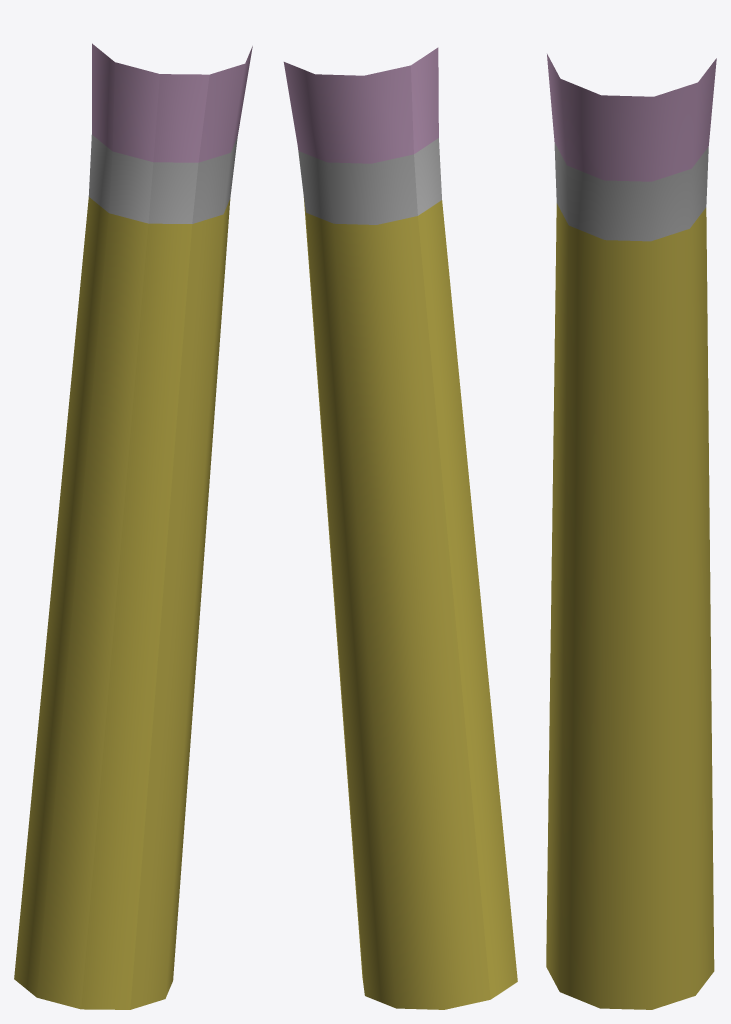
Rendered from PencilB.glb.
The picture shows the model from 3 angles, left to right: view 1: azimuth 30°, elevation 25°; view 2: azimuth 150°, elevation 25°; view 3: azimuth 270°, elevation 25°; orthographic projection. The views are drawn at different scales.
Visible parts, largest first — view 1: PencilB; view 2: PencilB; view 3: PencilB.
Part boxes in pixels (<box>): PencilB: <box>14,43,252,1009</box>; PencilB: <box>283,47,517,1009</box>; PencilB: <box>546,54,716,1009</box>.
Bounding box in the file's own units: 0.0736 × 0.304 × 0.0486.
